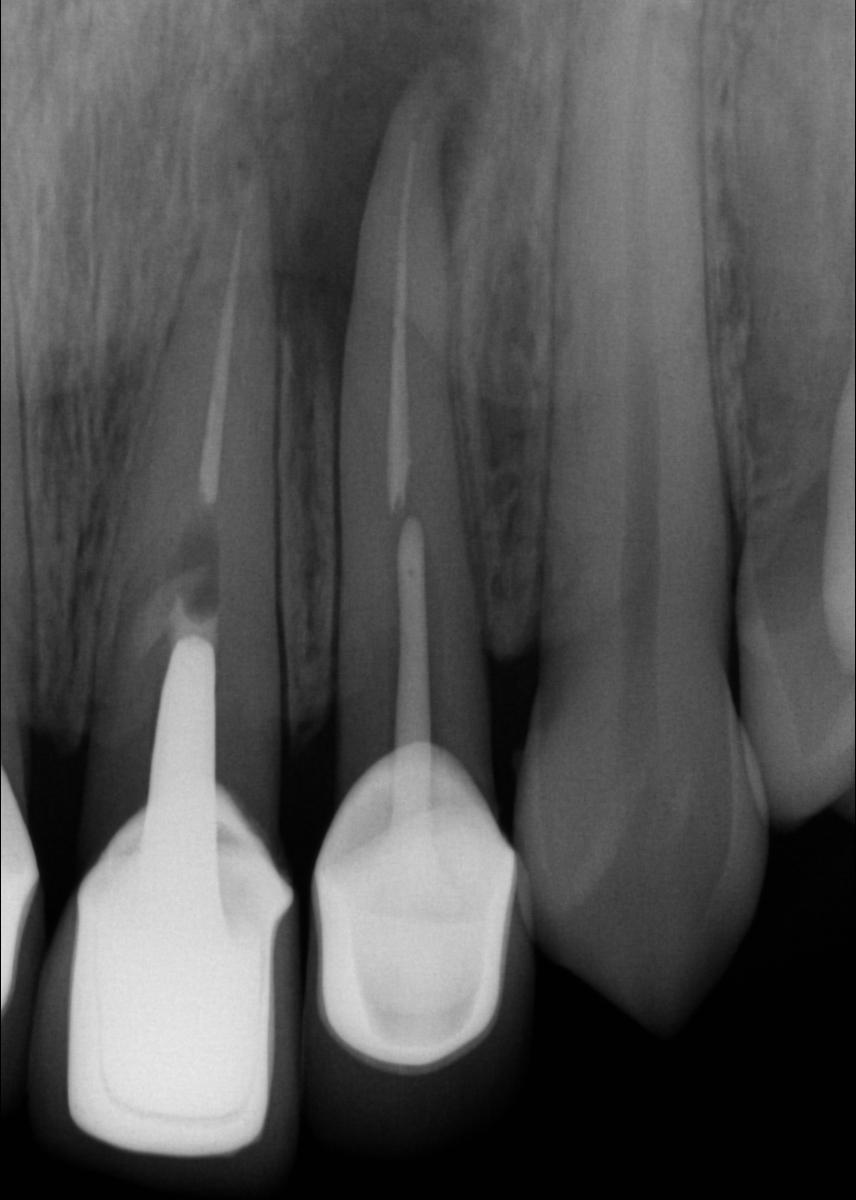Furcation Involvement: (238, 1, 523, 398)
